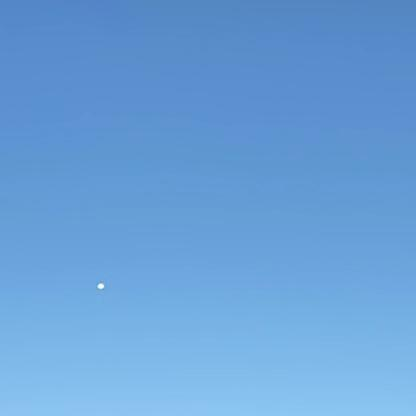golfball: (95, 279, 105, 289)
